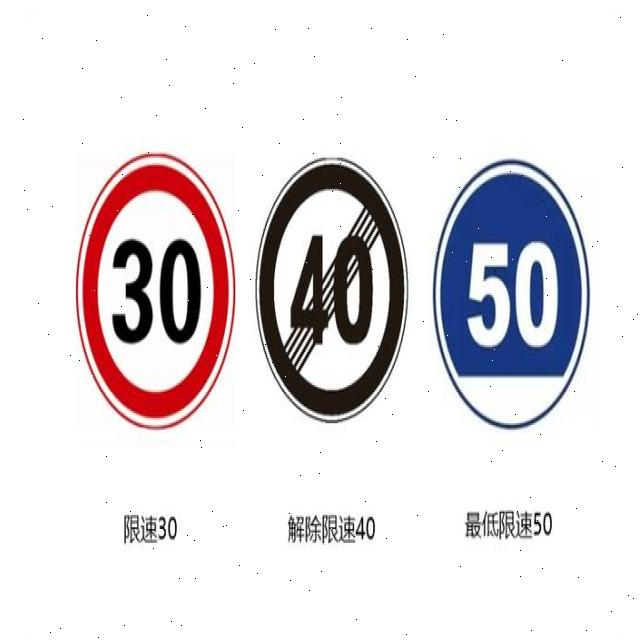speed limit 30: (74, 150, 236, 430)
speed limit 50: (433, 160, 590, 429)
